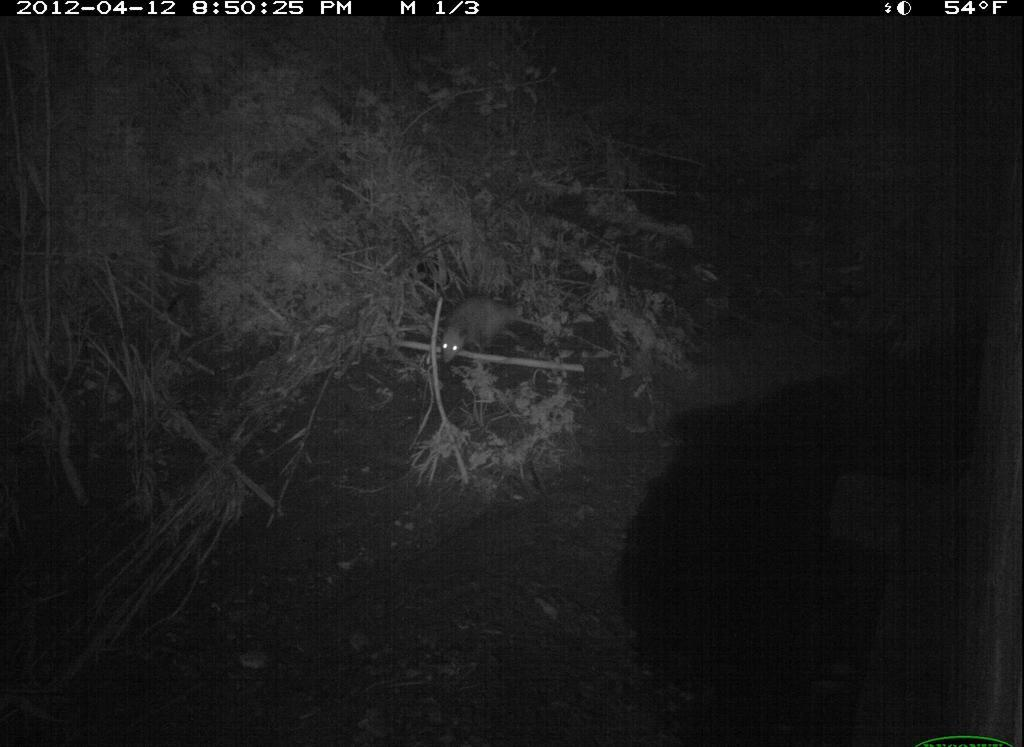opossum: (436, 296, 552, 367)
